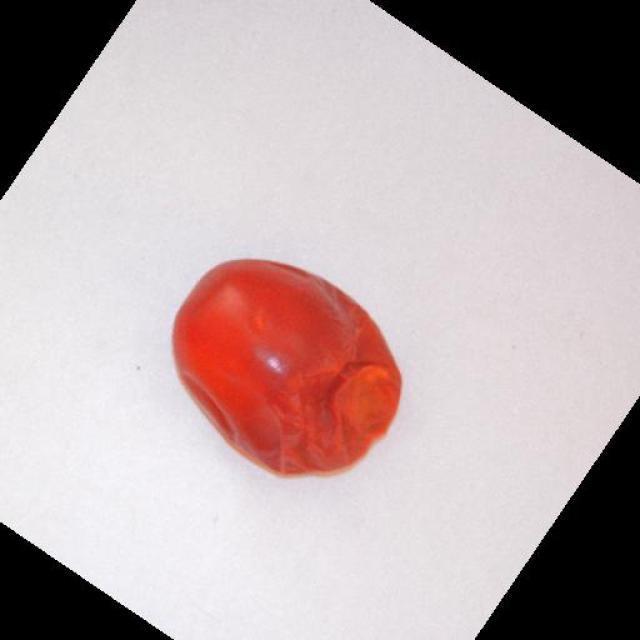Stale_tomato: (175, 254, 390, 466)
